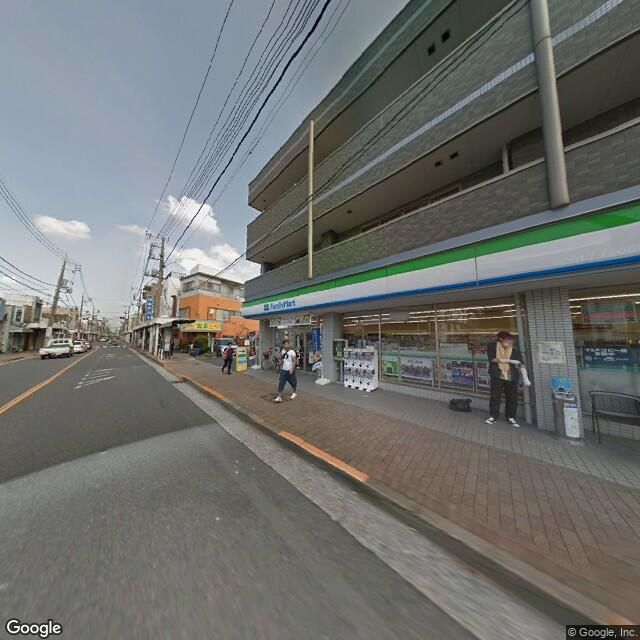family_mart: (242, 195, 637, 320)
